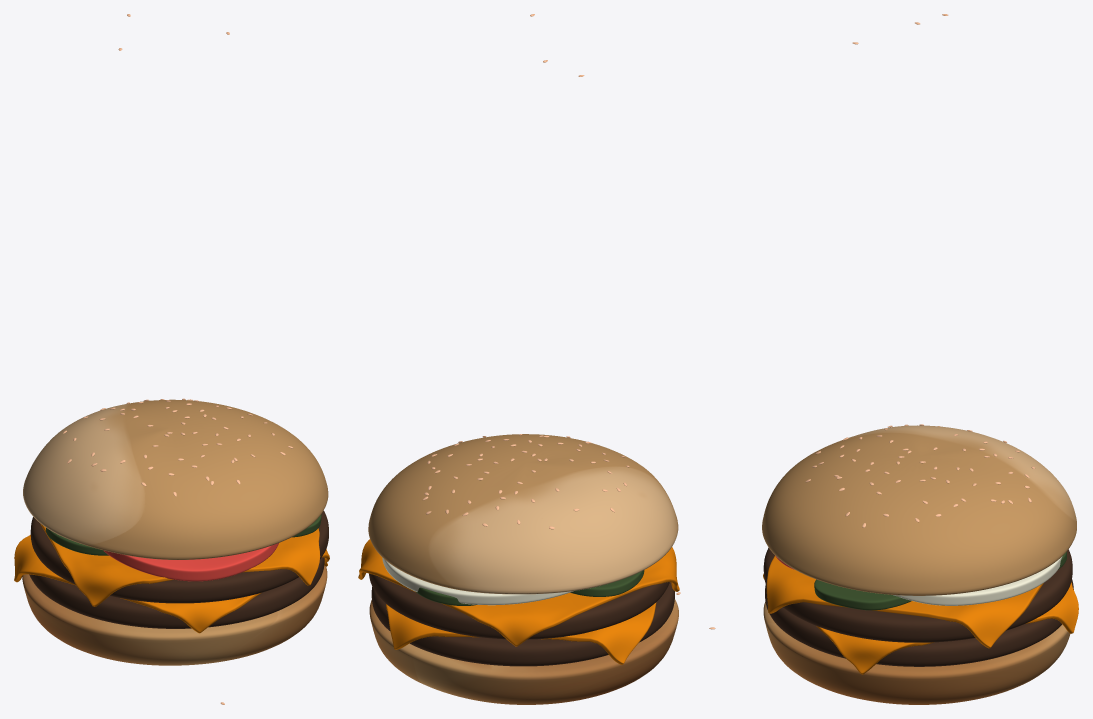
File: burger.glb
3 renders of one model, left to right at view 1: azimuth 30°, elevation 25°; view 2: azimuth 150°, elevation 25°; view 3: azimuth 270°, elevation 25°, orthographic. The views are drawn at different scales.
Parts seen in each view (by area): view 1: Bun, Patty_bottom, Patty_top, Cheese_top, Cheese_bottom, Tomato, Pickle.001; view 2: Bun, Patty_top, Cheese_top, Patty_bottom, Cheese_bottom, Onion, Pickle.001; view 3: Bun, Patty_top, Cheese_top, Patty_bottom, Cheese_bottom, Onion, Pickle.002.
Part boxes in pixels (<box>): Bun: <box>22,399,328,665</box>; Patty_bottom: <box>29,557,324,628</box>; Patty_top: <box>30,510,328,603</box>; Cheese_top: <box>40,523,320,606</box>; Cheese_bottom: <box>14,535,329,633</box>; Tomato: <box>103,543,278,581</box>; Pickle.001: <box>46,528,108,555</box>; Bun: <box>368,434,678,704</box>; Patty_top: <box>369,573,669,639</box>; Cheese_top: <box>358,539,679,646</box>; Patty_bottom: <box>371,582,674,666</box>; Cheese_bottom: <box>386,602,656,664</box>; Onion: <box>382,558,573,605</box>; Pickle.001: <box>570,570,644,596</box>; Bun: <box>762,425,1076,704</box>; Patty_top: <box>763,547,1072,642</box>; Cheese_top: <box>766,556,1043,648</box>; Patty_bottom: <box>765,579,1073,666</box>; Cheese_bottom: <box>763,573,1078,674</box>; Onion: <box>893,556,1062,605</box>; Pickle.002: <box>814,579,911,610</box>.
Size of the model in its own units: 3.3 by 7.06 by 3.78.
Materials: 7 (1 with a texture image).
